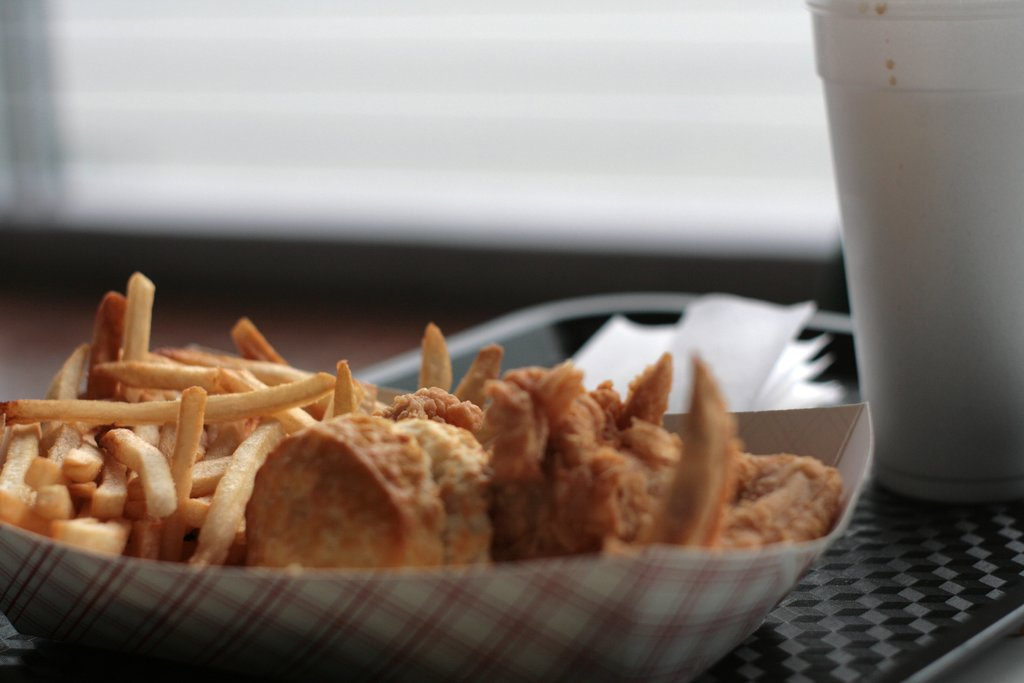French fries: (0, 252, 390, 537)
